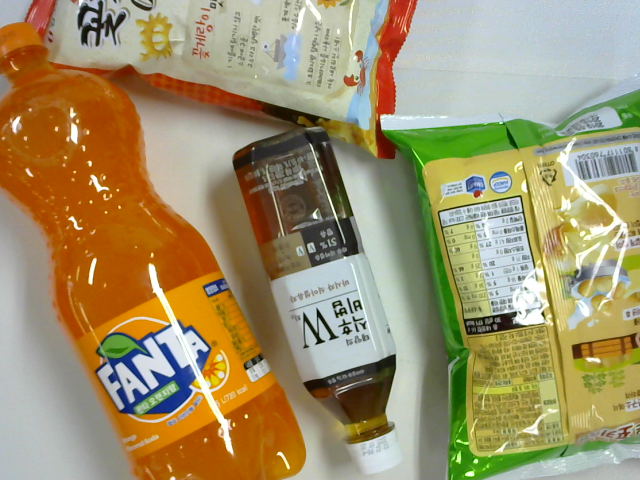Crabrang: (25, 1, 419, 161)
Hwanta_Orange_1.5L: (1, 22, 306, 478)
Pocachip_Onion: (378, 73, 637, 480)
Post-meal_recipe_W_tea_500ml: (232, 125, 402, 474)
